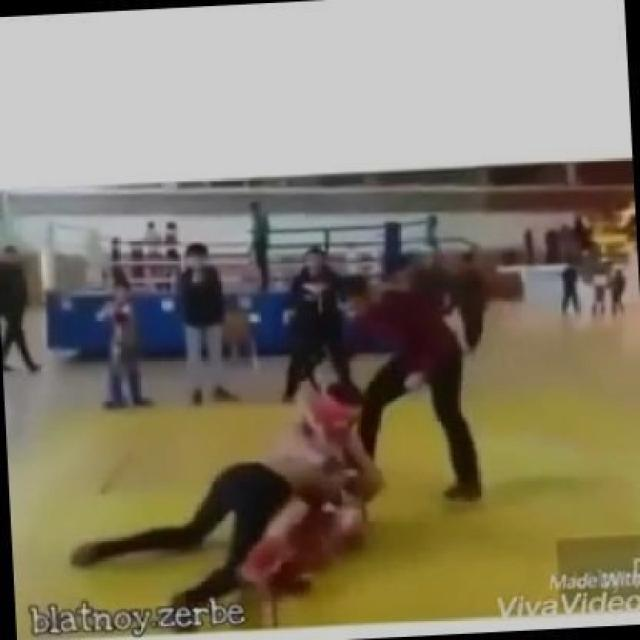fight: (67, 380, 386, 632)
non-fight: (318, 253, 491, 504), (275, 243, 352, 402), (172, 242, 242, 408), (91, 260, 155, 412)
